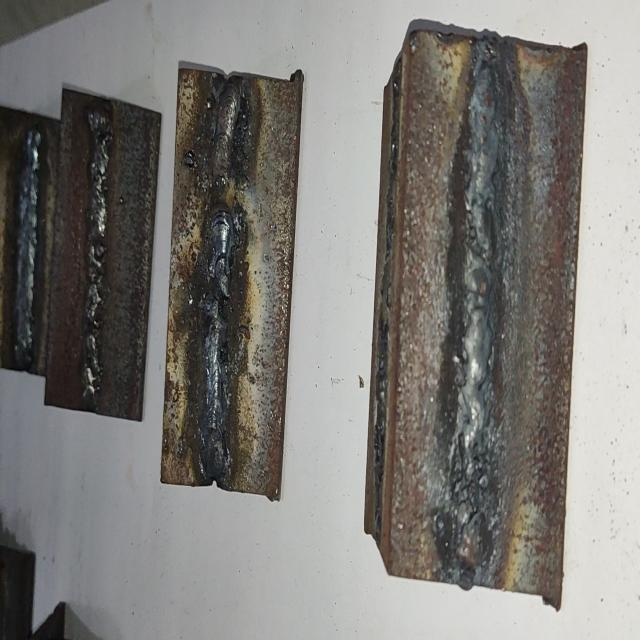Bad Weld: (458, 41, 500, 582), (199, 81, 242, 484)
Defect: (448, 405, 509, 574), (199, 153, 242, 241), (198, 268, 234, 371)
Good Weld: (81, 101, 109, 403), (16, 124, 42, 368)
